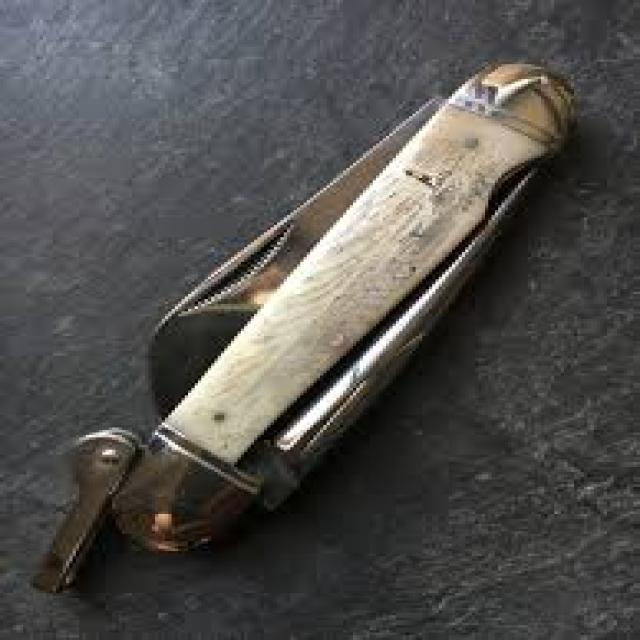knives: (45, 16, 611, 602)
